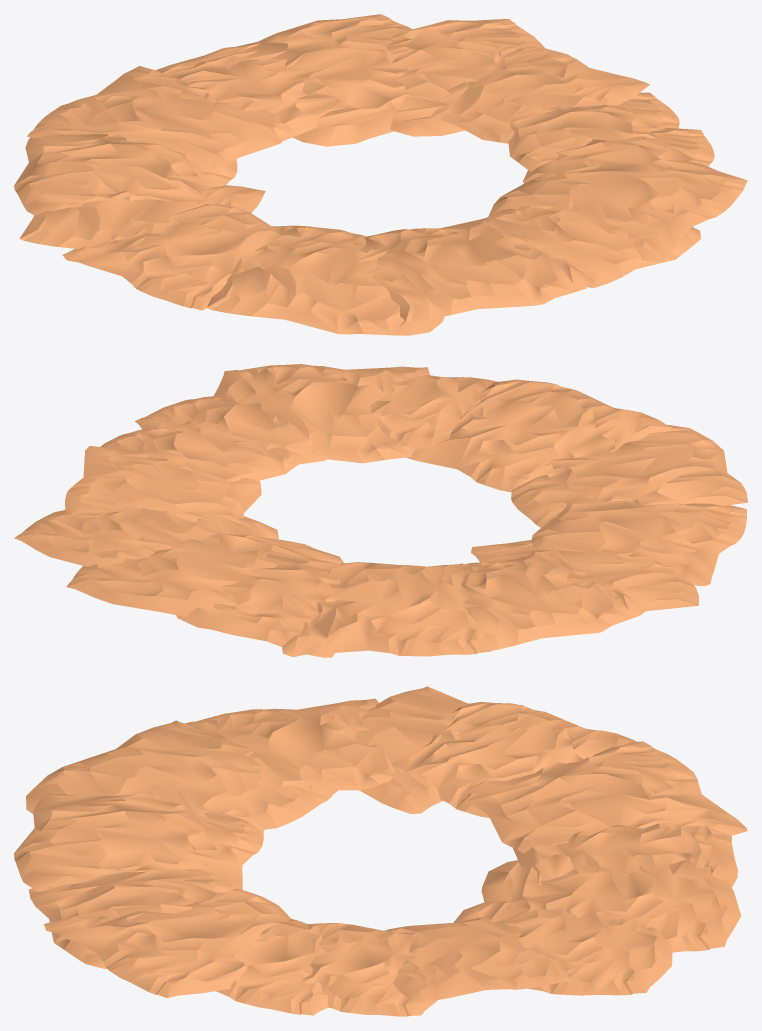
File: dunes.glb
The picture shows the model from 3 angles, top to bottom: view 1: azimuth 30°, elevation 25°; view 2: azimuth 150°, elevation 25°; view 3: azimuth 270°, elevation 25°; orthographic projection. The views are drawn at different scales.
Parts seen in each view (by area): view 1: dune_010.003; view 2: dune_010.003; view 3: dune_010.003.
Part boxes in pixels (<box>): dune_010.003: <box>14,14,747,335</box>; dune_010.003: <box>14,364,747,657</box>; dune_010.003: <box>14,686,747,1016</box>.
Size of the model in its own units: 2708 by 119 by 2591.
Materials: 1 (1 with a texture image).
